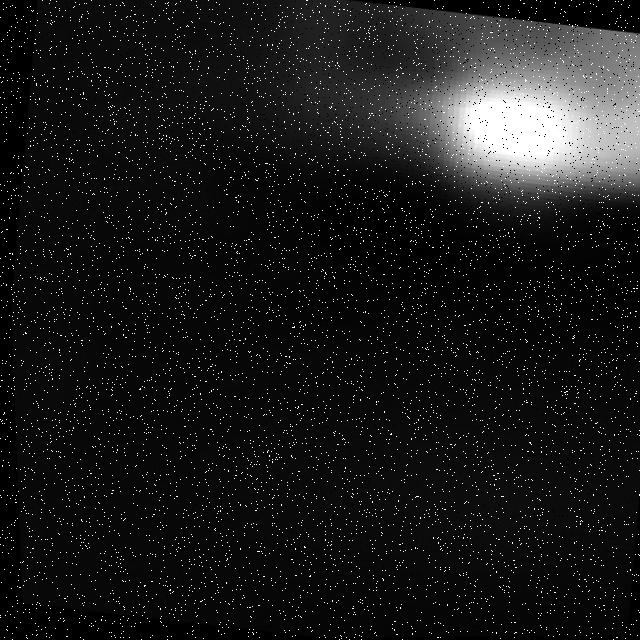person: (216, 1, 640, 240)
